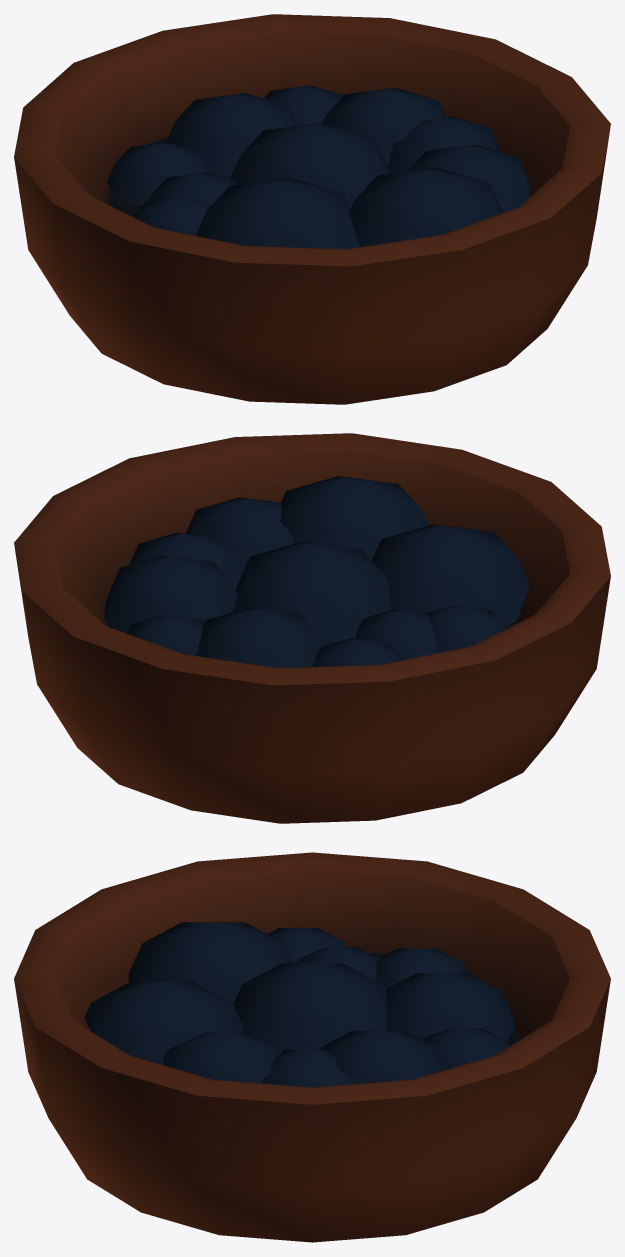
The model's file is BlueBerryProduce.fbx.
3 views of the same model, one above another, from view 1: azimuth 30°, elevation 25°; view 2: azimuth 150°, elevation 25°; view 3: azimuth 270°, elevation 25° (orthographic).
Parts seen in each view (by area): view 1: BlueBerryProduce; view 2: BlueBerryProduce; view 3: BlueBerryProduce.
Part boxes in pixels (left/top/right/bottom): BlueBerryProduce: left=14, top=14, right=610, bottom=404; BlueBerryProduce: left=14, top=433, right=610, bottom=823; BlueBerryProduce: left=14, top=852, right=610, bottom=1242.
Size of the model in its own units: 83.22 by 30.64 by 83.22.
